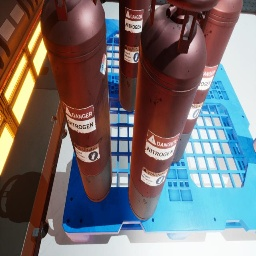0: (253, 137, 256, 154)
FirstAidBox ,: (148, 0, 152, 18)
NitrogenTank ,: (128, 0, 219, 221), (40, 0, 112, 202), (172, 0, 242, 163), (119, 0, 150, 112)
